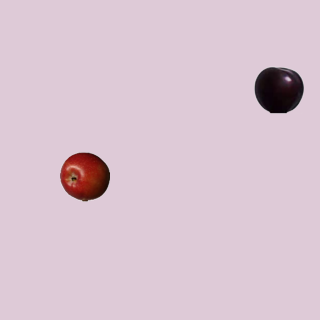Apple Braeburn: (59, 151, 109, 201)
Cherry Wax Black: (253, 64, 303, 114)
